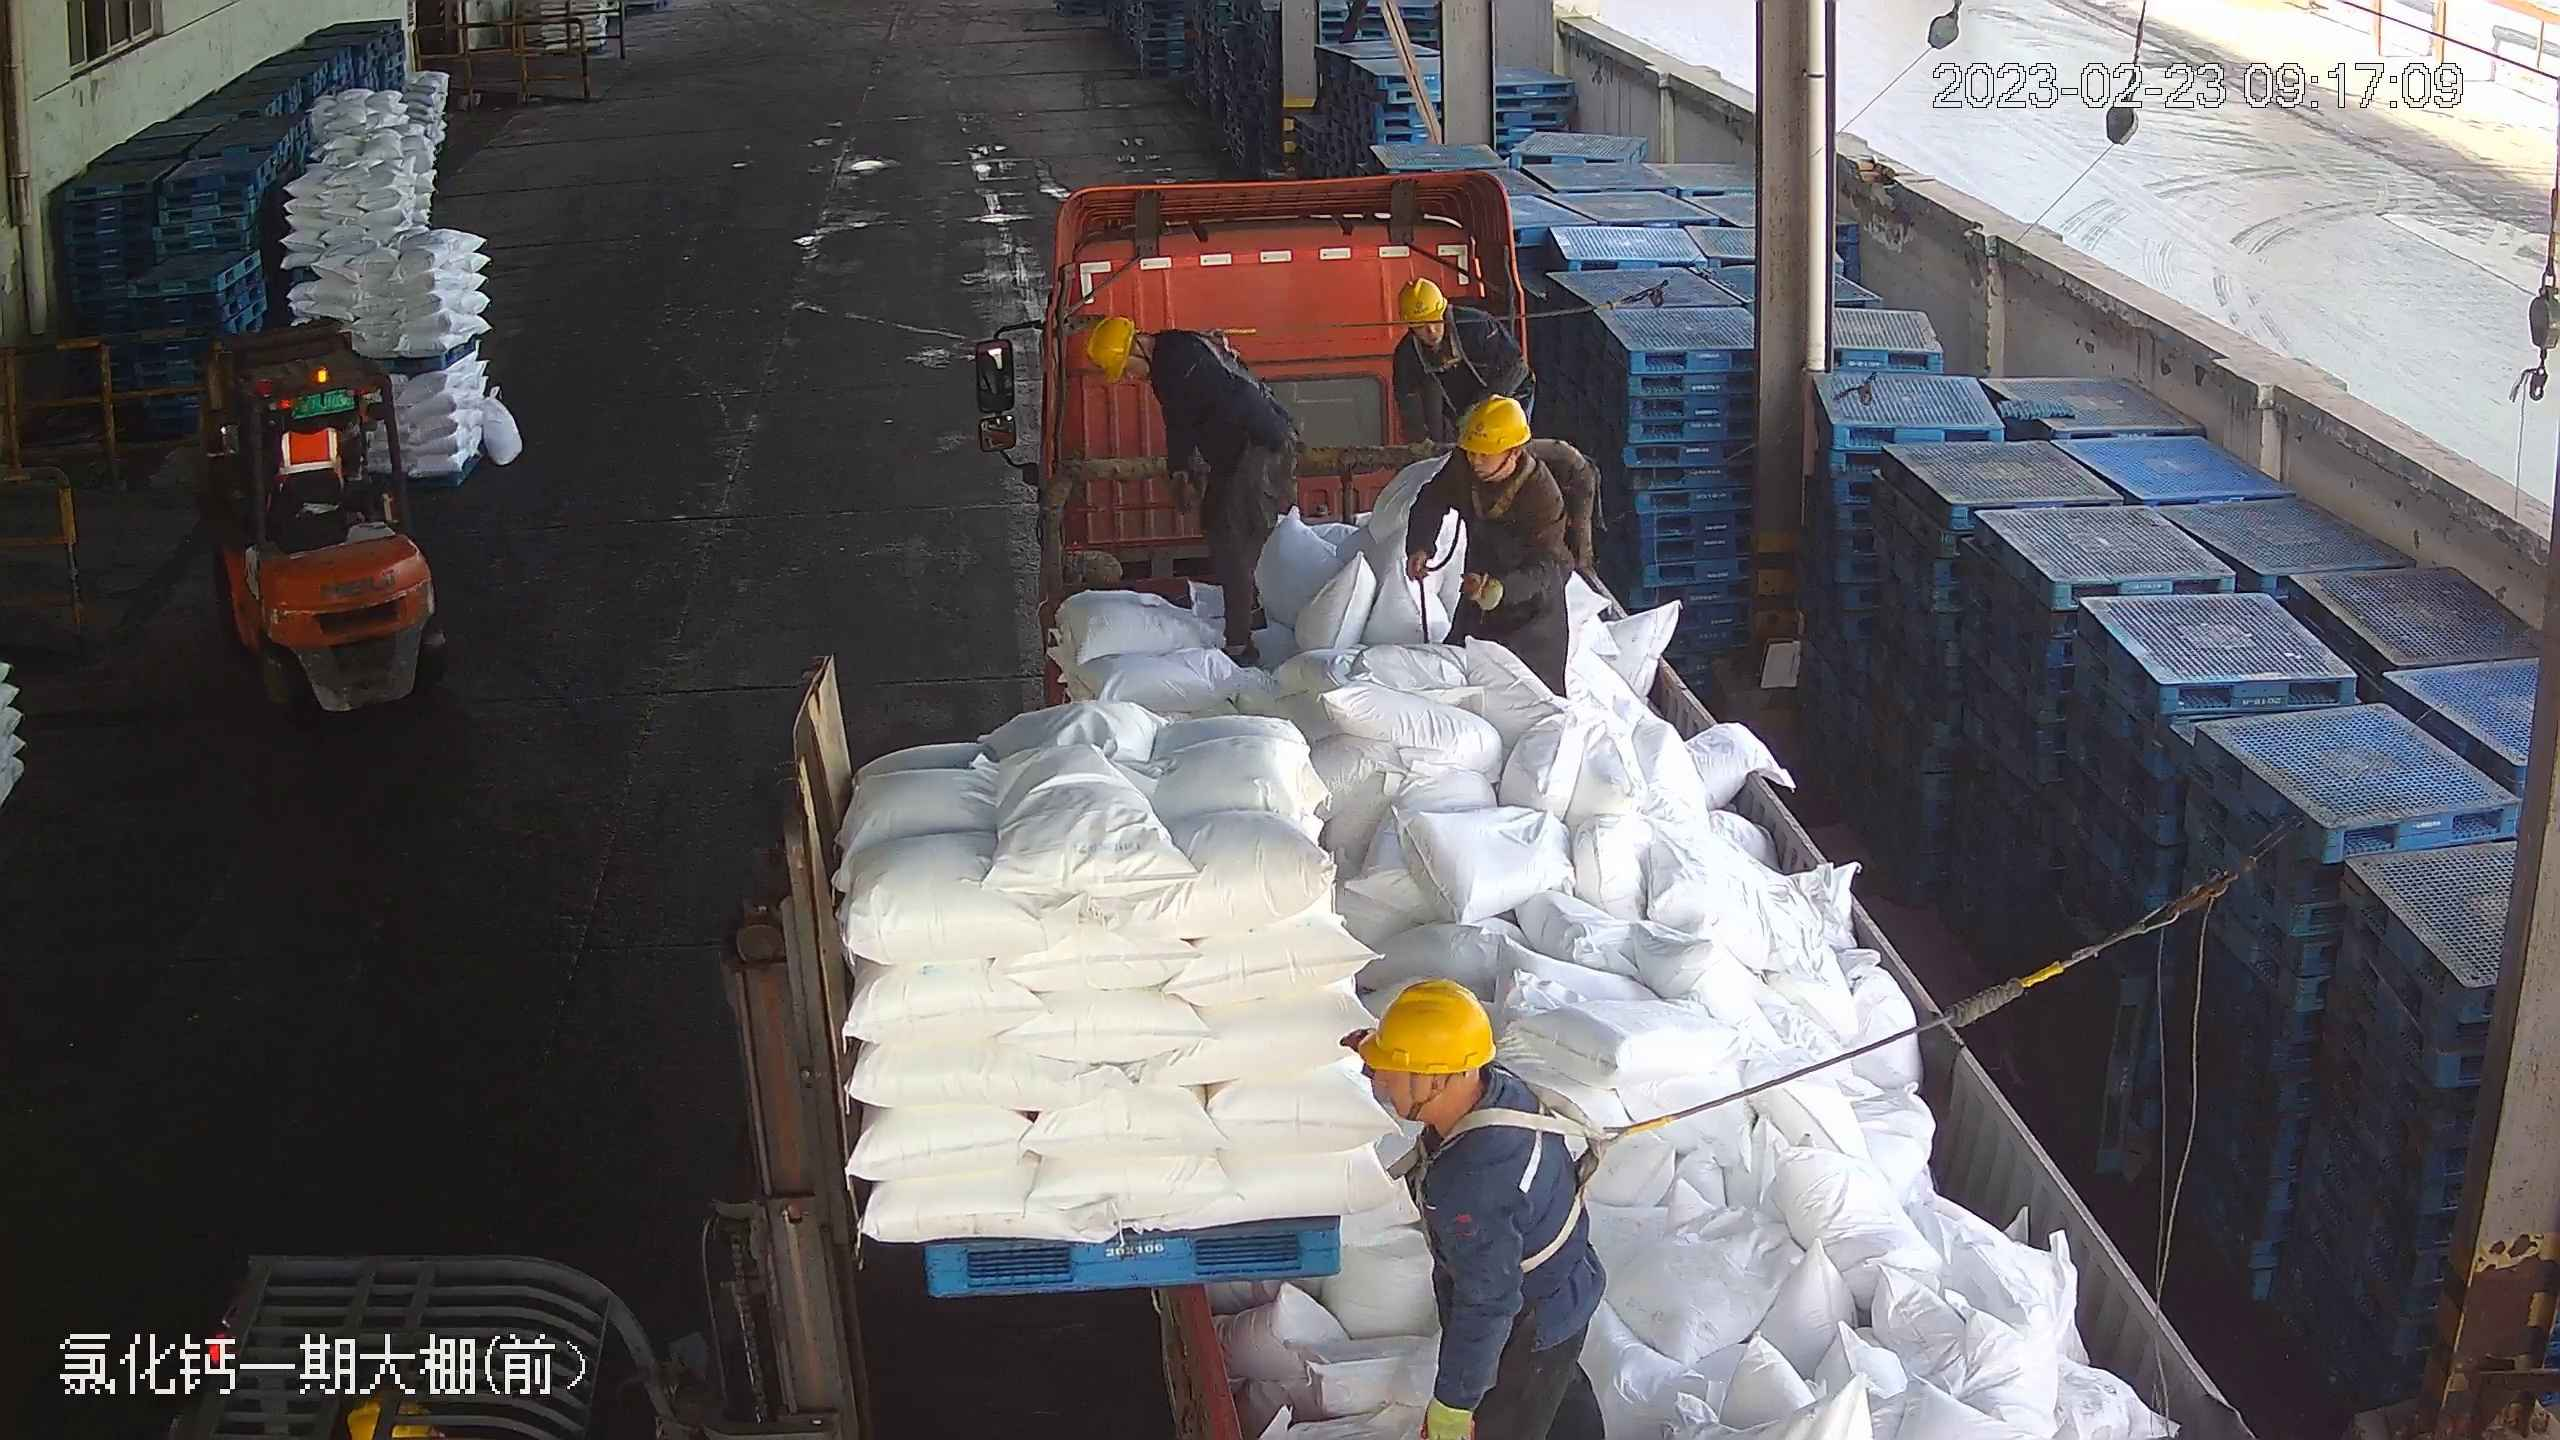belt: (1460, 1095, 1674, 1267), (1470, 454, 1542, 523), (1415, 312, 1478, 388), (1185, 314, 1263, 376)
head: (1350, 984, 1553, 1229), (1441, 396, 1564, 515), (1083, 314, 1208, 415), (1392, 278, 1484, 372)
helmet: (1350, 977, 1495, 1071), (1450, 389, 1531, 453), (1083, 315, 1137, 373), (1392, 276, 1448, 322)
people: (1352, 980, 1612, 1440), (1089, 312, 1309, 673), (1408, 392, 1580, 701)
truck: (970, 172, 2259, 1427)
